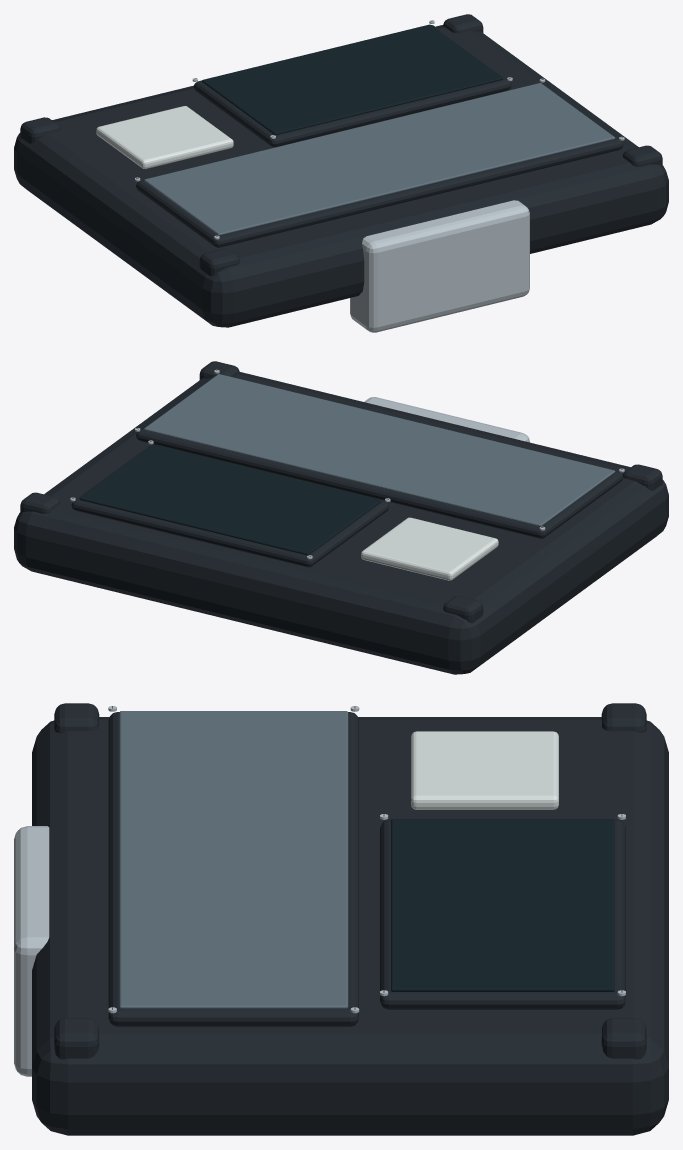
The model's file is agv.glb.
The picture shows the model from 3 angles, top to bottom: view 1: azimuth 30°, elevation 25°; view 2: azimuth 150°, elevation 25°; view 3: azimuth 270°, elevation 25°; orthographic projection. The views are drawn at different scales.
Visible parts, largest first — view 1: Vehicle terminal bumper.001, deck live content surface.016, screen live content surface.016, Vehicle mount.001, deck mounting bezel.016, Equipment identity plate.016, screen mounting bezel.016, Impact corner.004, Impact corner.005, Impact corner.006, Impact corner.007; view 2: Vehicle terminal bumper.001, deck live content surface.016, screen live content surface.016, deck mounting bezel.016, Equipment identity plate.016, screen mounting bezel.016, Vehicle mount.001, Impact corner.005, Impact corner.004, Impact corner.007, Impact corner.006; view 3: Vehicle terminal bumper.001, deck live content surface.016, screen live content surface.016, Equipment identity plate.016, deck mounting bezel.016, screen mounting bezel.016, Vehicle mount.001, Impact corner.006, Impact corner.007, Impact corner.004, Impact corner.005.
Part boxes in pixels (x1,y1,x2,y2): Vehicle terminal bumper.001: (14, 25, 668, 327); deck live content surface.016: (144, 83, 615, 235); screen live content surface.016: (202, 24, 503, 135); Vehicle mount.001: (350, 200, 529, 332); deck mounting bezel.016: (136, 83, 623, 247); Equipment identity plate.016: (96, 106, 233, 169); screen mounting bezel.016: (193, 25, 511, 146); Impact corner.004: (199, 248, 239, 276); Impact corner.005: (20, 117, 60, 143); Impact corner.006: (622, 145, 662, 166); Impact corner.007: (443, 14, 483, 33); Vehicle terminal bumper.001: (14, 372, 668, 674); deck live content surface.016: (144, 374, 615, 526); screen live content surface.016: (79, 444, 381, 555); deck mounting bezel.016: (136, 374, 623, 538); Equipment identity plate.016: (361, 517, 498, 580); screen mounting bezel.016: (71, 445, 389, 567); Vehicle mount.001: (364, 397, 529, 442); Impact corner.005: (443, 595, 483, 623); Impact corner.004: (623, 464, 662, 490); Impact corner.007: (20, 492, 60, 513); Impact corner.006: (199, 361, 239, 379); Vehicle terminal bumper.001: (32, 717, 668, 1135); deck live content surface.016: (119, 711, 348, 1008); screen live content surface.016: (391, 819, 614, 991); Equipment identity plate.016: (411, 731, 558, 809); deck mounting bezel.016: (108, 712, 358, 1026); screen mounting bezel.016: (380, 820, 625, 1009); Vehicle mount.001: (14, 826, 49, 1076); Impact corner.006: (54, 1018, 99, 1059); Impact corner.007: (601, 1018, 646, 1059); Impact corner.004: (54, 703, 99, 732); Impact corner.005: (601, 703, 646, 732).
Bounding box in the file's own units: 9.1 × 2 × 7.3.
